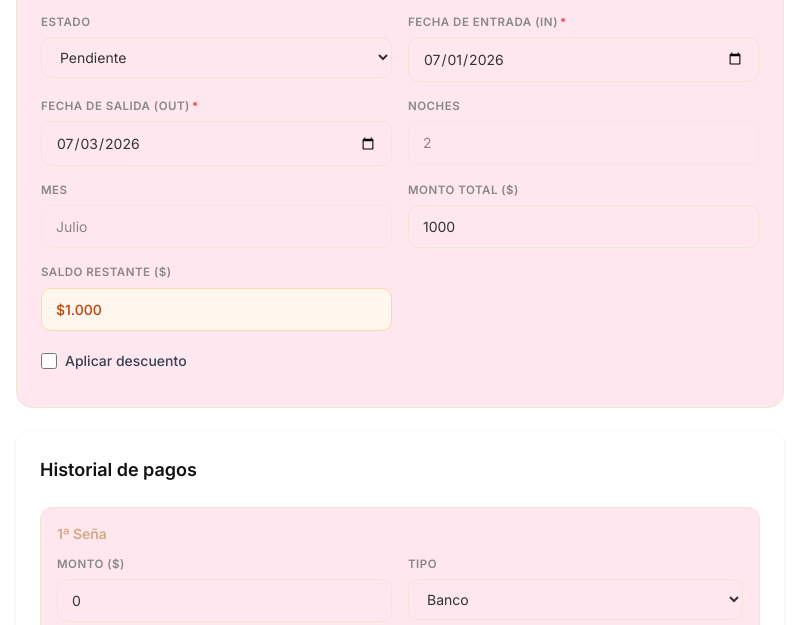
Scenario: ReservaForm.jsx — descuento en MONTO FIJO al EDITAR una reserva existente (código real) › un descuento en edición que supera la base es inválido — muestra error, el total se mantiene en $1000
(page scrolled)
Expected: the number field with test id "input-monto-total" holds "1000", [408,205,759,248]
Click the text "Aplicar descuento" at (126, 361), box [65,351,187,371]
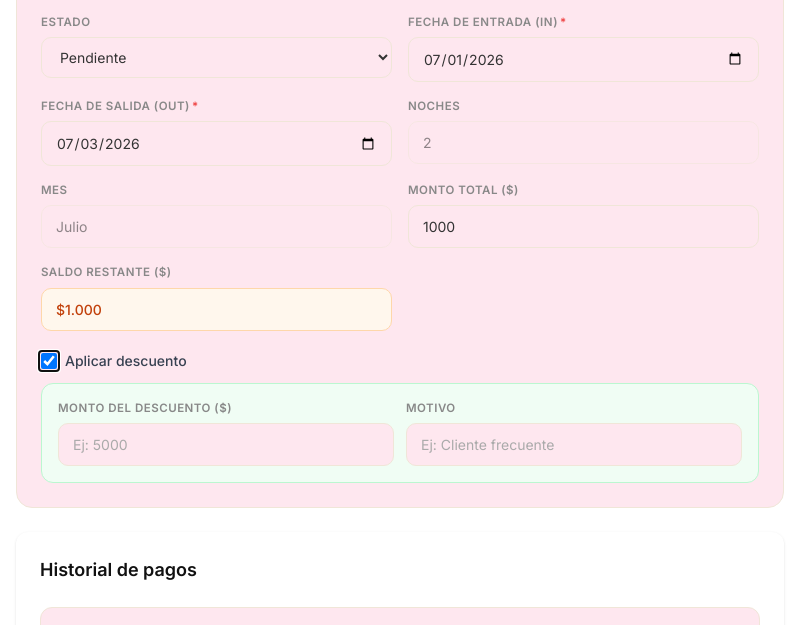
Type "5000" into the number field with test id "input-descuento-monto" at (226, 444), box [58,423,394,466]
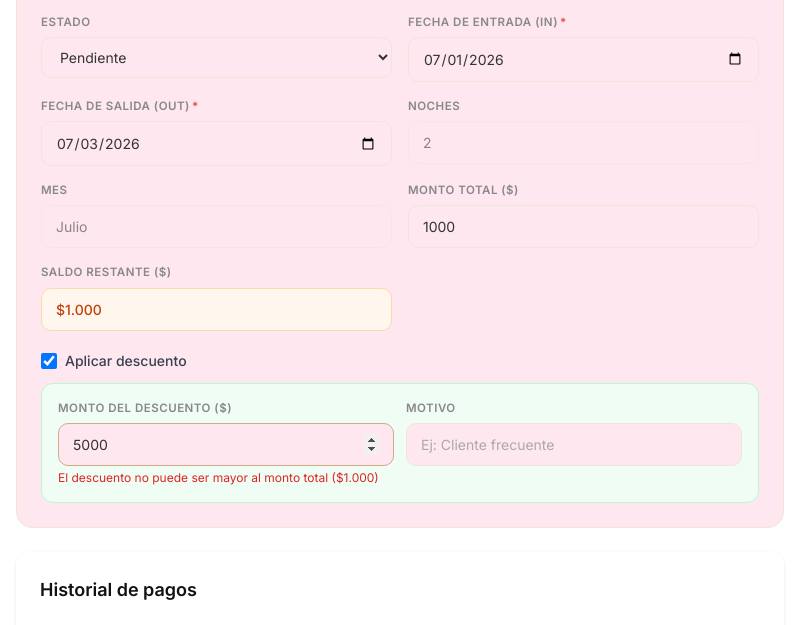
Expected: the number field with test id "input-monto-total" holds "1000", [408,205,759,248]
Expected: the text with test id "error-descuento-excede" reads "El descuento no puede ser mayor al monto total ($1.000)", [58,470,394,486]
